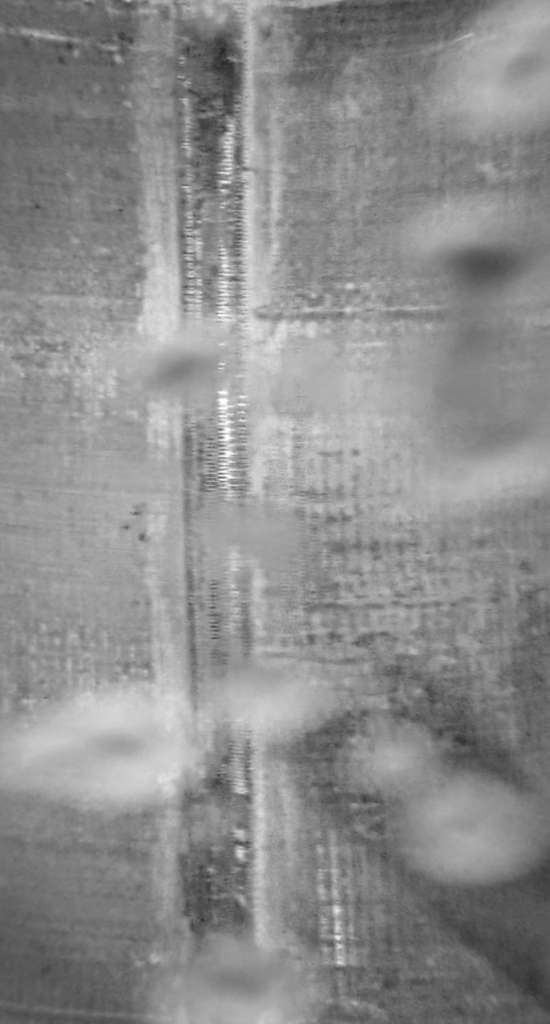splice: (166, 1, 258, 1024)
